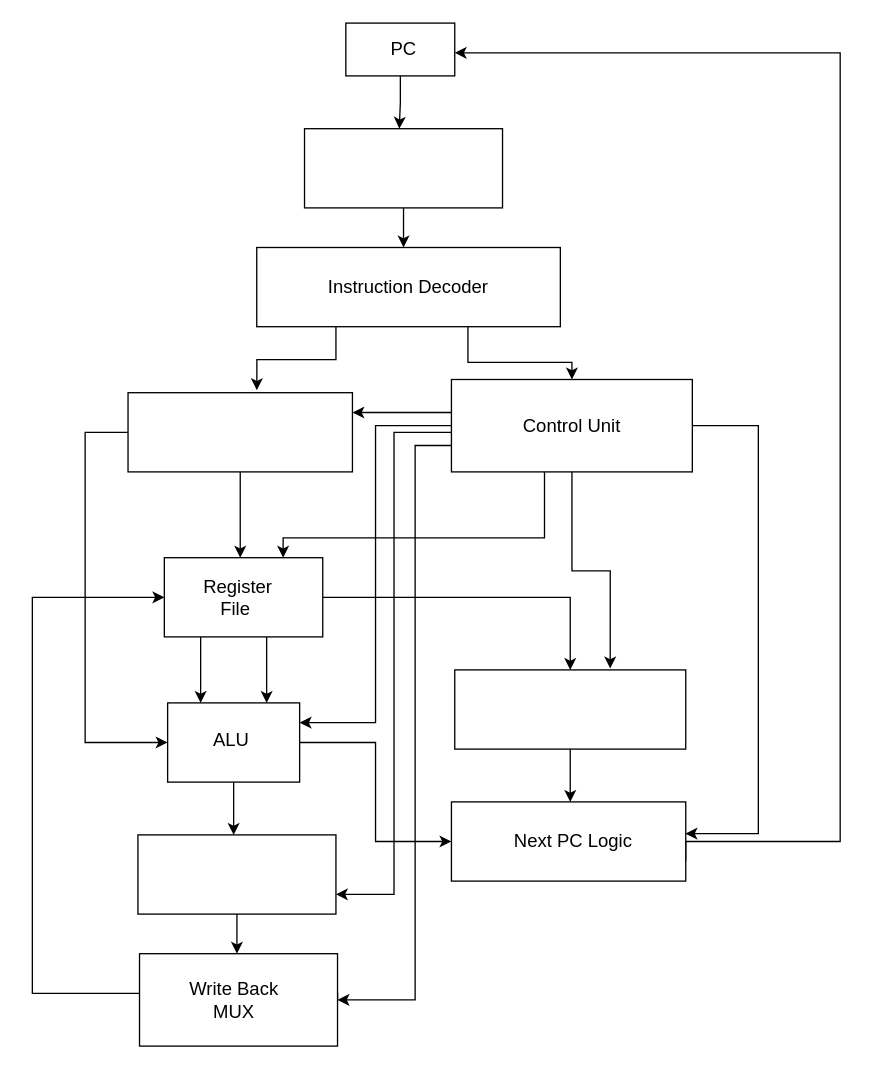
Image size: 874x1069. Some labels were removed from this diagram. Each missing label, with the centre of its shape:
Branch Comparator: (x=569, y=709)
Immediate Generator: (x=239, y=431)
Instruction Memory (IMEM): (x=403, y=167)
Load/Store Unit: (x=236, y=874)
